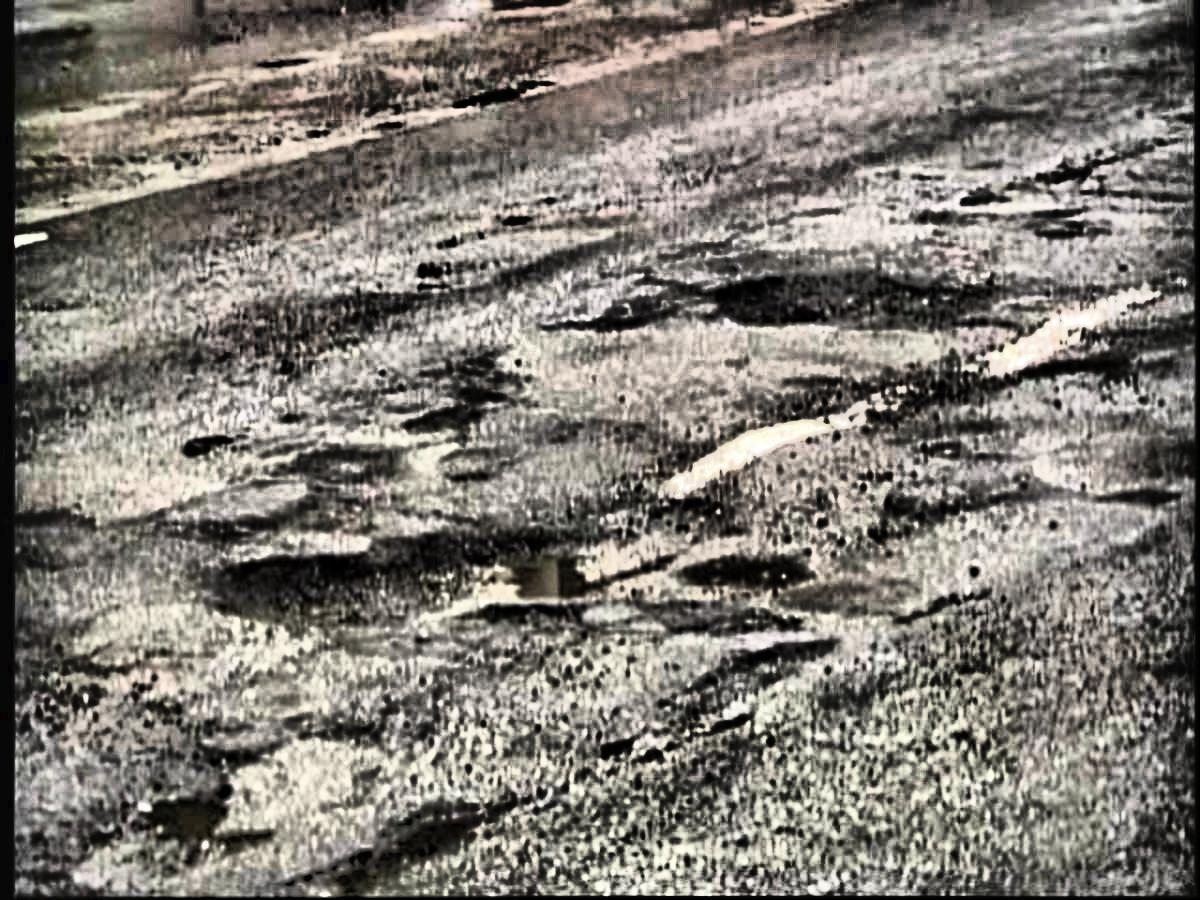pothole: (218, 530, 500, 638), (706, 250, 959, 340)
